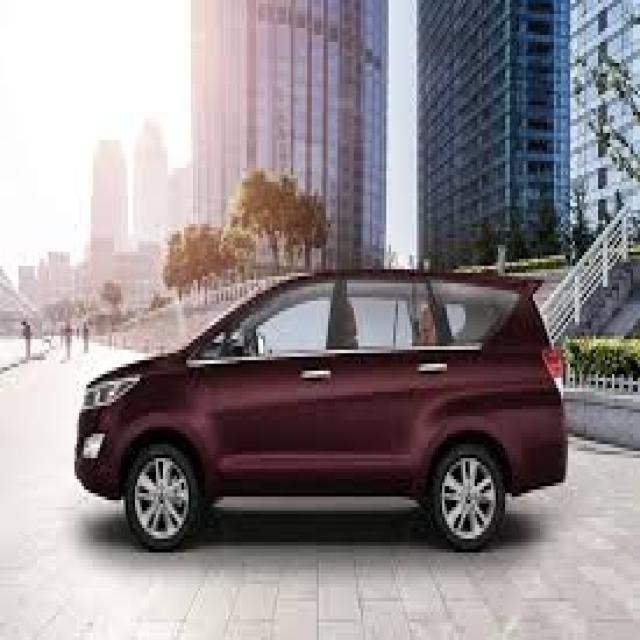light_vehicle: (74, 268, 570, 551)
